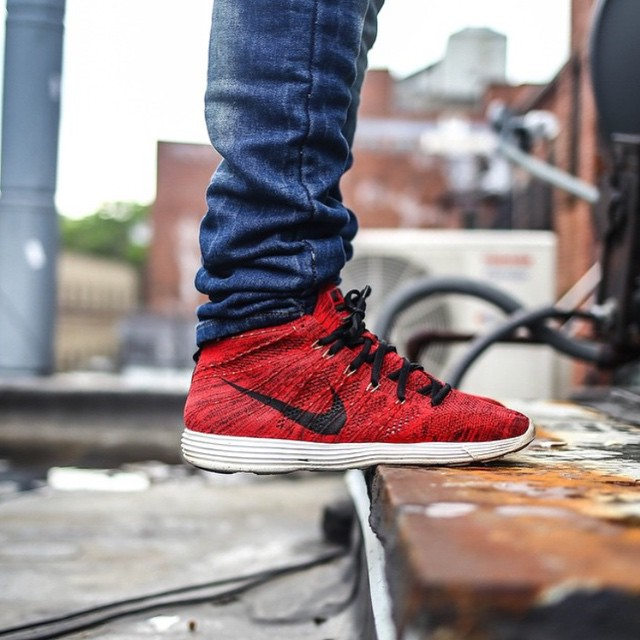sneaker: (165, 274, 548, 490)
